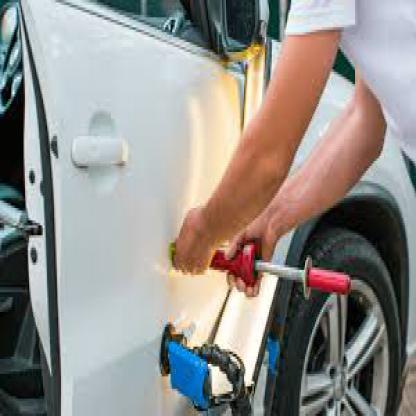dent: (2, 3, 60, 414)
